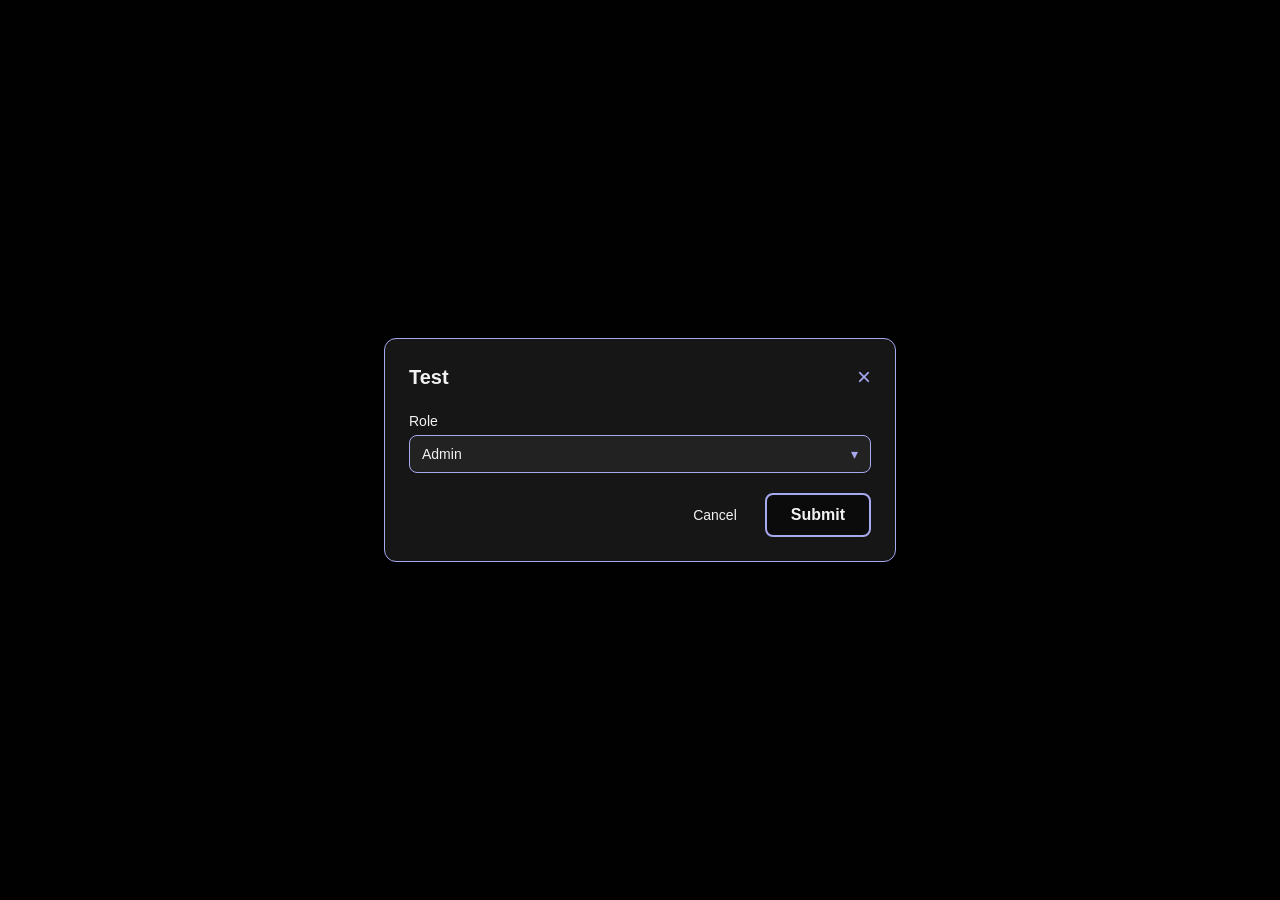
Test: Modal › renders a dropdown field with options
Expected: the text "Admin" is shown, 422,444 -> 462,464
Note: Opening the dropdown shows all options
Step 1. Click the button "Admin ▾" → (442, 454), box 409,435 -> 871,473
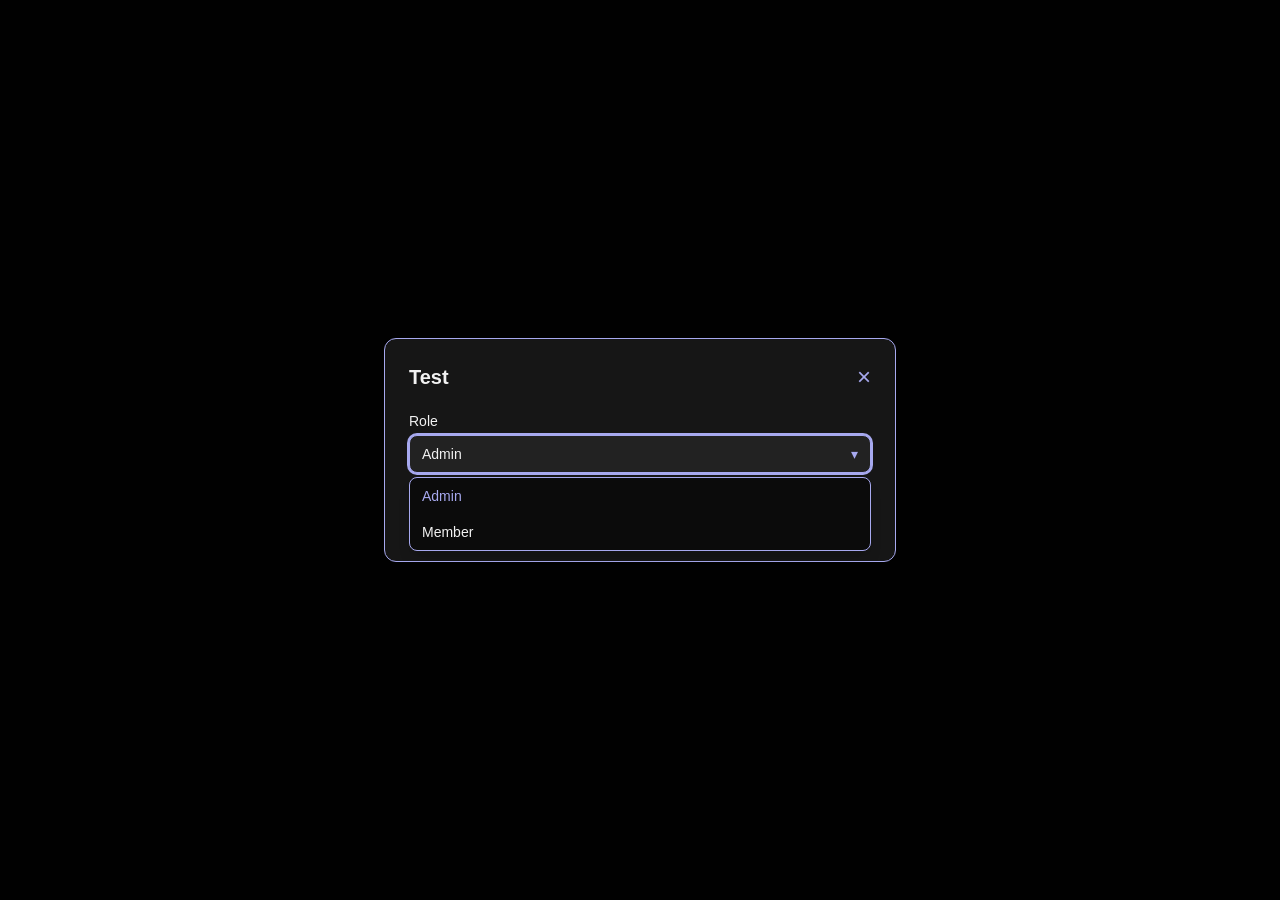
Result: the list item "Member" is shown at 422,524 -> 473,540
